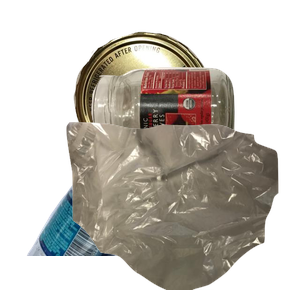glass: (89, 65, 300, 212)
metal: (71, 29, 276, 193)
plastic: (24, 120, 182, 300)
trash: (64, 120, 300, 300)
